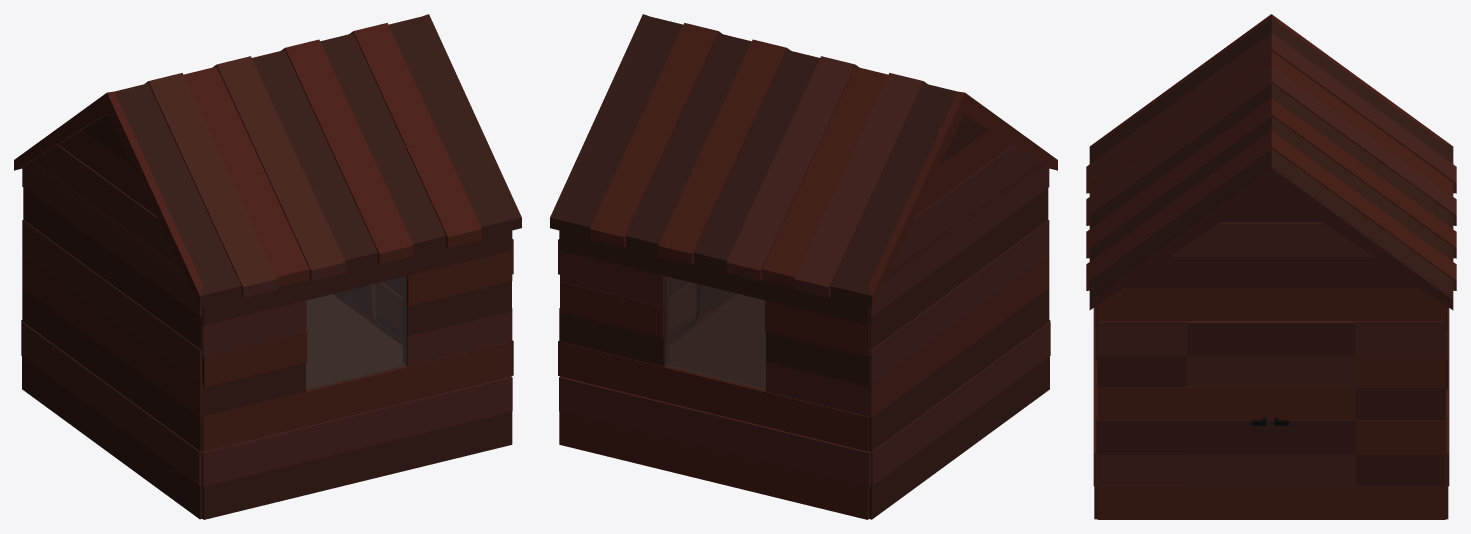
Rendered from hutje.fbx.
3 views of the same model, side by side, from view 1: azimuth 30°, elevation 25°; view 2: azimuth 150°, elevation 25°; view 3: azimuth 270°, elevation 25° (orthographic). The views are drawn at different scales.
Visible parts, largest first — view 1: Cube.001, Cube.002, Cube.004, Cube.006, Cube, Deur1; view 2: Cube.001, Cube.003, Cube.004, Cube.007, Cube, Deur2; view 3: Cube.005, Cube.001, Deur1, Deur2, Cube.002, Cube.003.
Part boxes in pixels (x1,y1,x2,y2): Cube.001: (14,14,521,306); Cube.002: (201,230,512,519); Cube.004: (21,114,202,519); Cube.006: (306,276,406,390); Cube: (306,276,406,390); Deur1: (376,277,402,345); Cube.001: (550,14,1057,306); Cube.003: (559,230,870,519); Cube.004: (869,114,1050,519); Cube.007: (666,277,765,389); Cube: (664,276,765,390); Deur2: (669,277,696,345); Cube.005: (1097,188,1445,519); Cube.001: (1086,14,1456,310); Deur1: (1270,322,1357,486); Deur2: (1184,322,1270,486); Cube.002: (1093,305,1100,519); Cube.003: (1445,306,1449,519).
Bounding box in the file's own units: 143 × 153 × 144.
